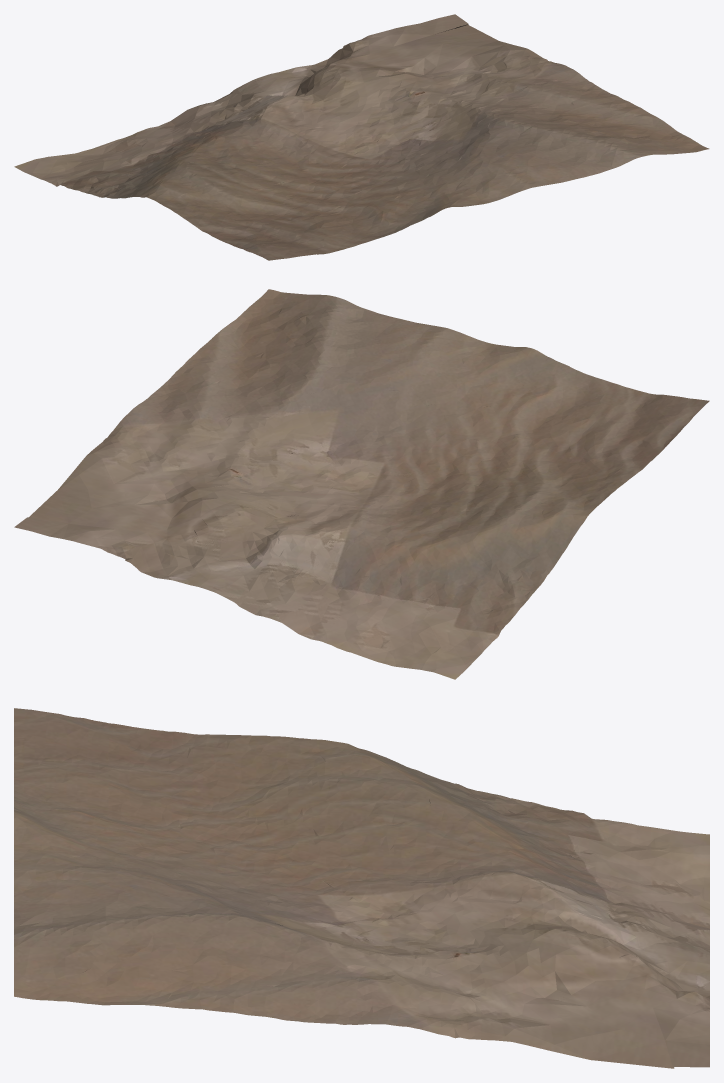
3 renders of one model, top to bottom at view 1: azimuth 30°, elevation 25°; view 2: azimuth 150°, elevation 25°; view 3: azimuth 270°, elevation 25°, orthographic. The views are drawn at different scales.
Bounding box in the file's own units: 1.04 × 0.2446 × 1.04.
Materials: 2 (2 with a texture image).
